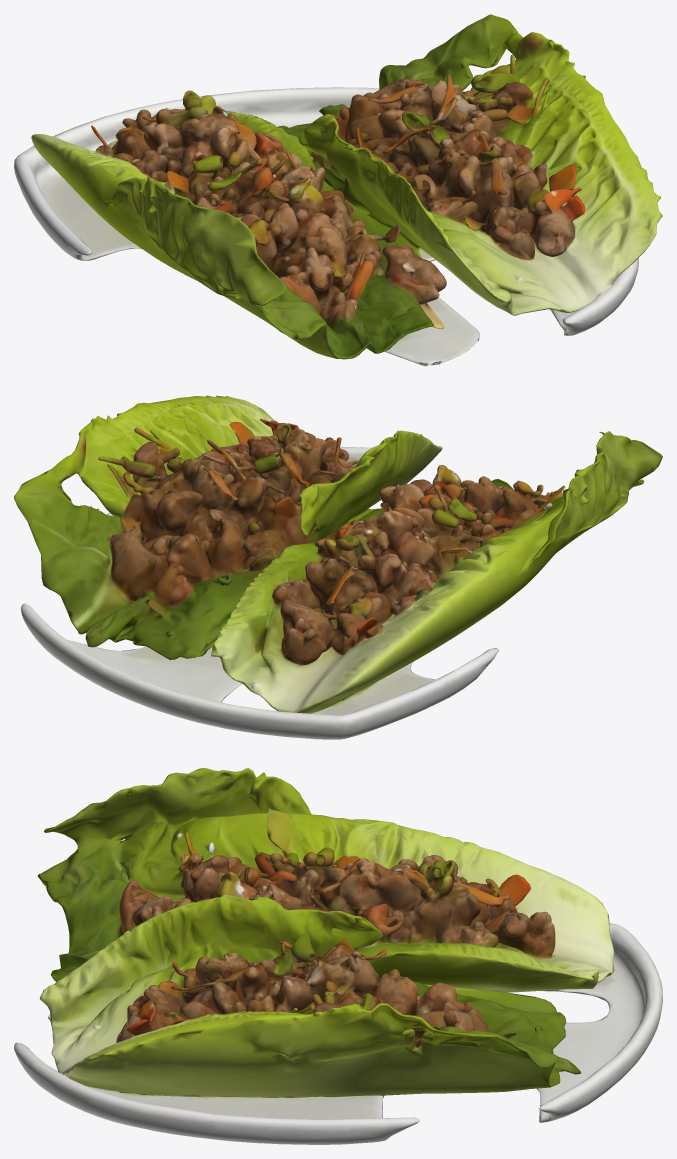
File: lettuce-wraps.glb
3 views of the same model, one above another, from view 1: azimuth 30°, elevation 25°; view 2: azimuth 150°, elevation 25°; view 3: azimuth 270°, elevation 25° (orthographic). The views are drawn at different scales.
Visible parts, largest first — view 1: tripo_node_d8c65042-4571-4852-92e6-3efcdd6397da; view 2: tripo_node_d8c65042-4571-4852-92e6-3efcdd6397da; view 3: tripo_node_d8c65042-4571-4852-92e6-3efcdd6397da.
Part boxes in pixels (x1,y1,x2,y2): tripo_node_d8c65042-4571-4852-92e6-3efcdd6397da: (14,14,662,366); tripo_node_d8c65042-4571-4852-92e6-3efcdd6397da: (14,395,662,739); tripo_node_d8c65042-4571-4852-92e6-3efcdd6397da: (14,768,662,1144).
Bounding box in the file's own units: 0.8267 × 0.2664 × 0.9798.
1 material, 1 textured.
